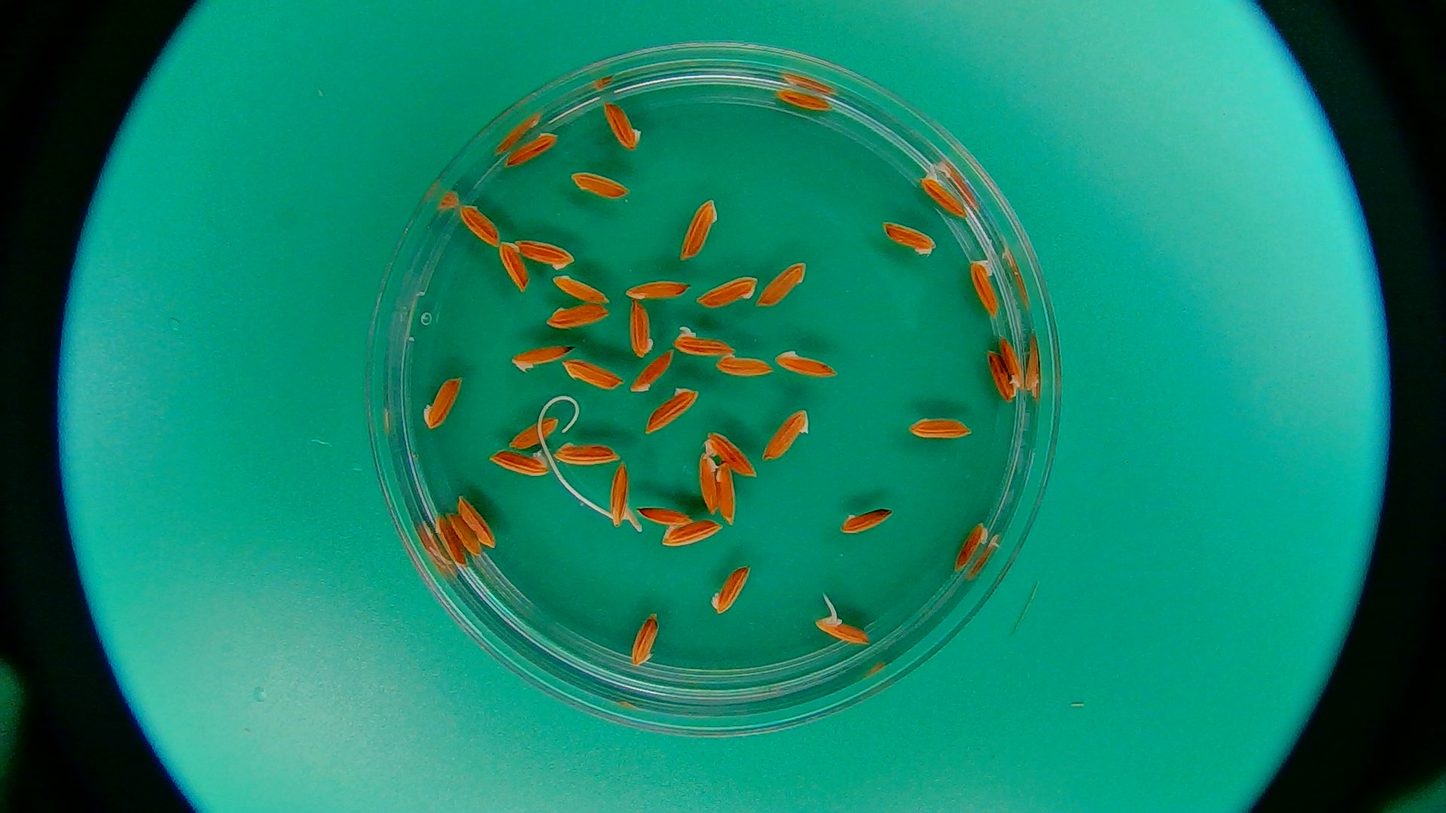no: (646, 388, 699, 437), (679, 199, 721, 260), (761, 408, 809, 459), (709, 562, 752, 617), (423, 373, 463, 432), (758, 261, 807, 309), (600, 96, 642, 150), (432, 514, 471, 571), (953, 518, 991, 574), (696, 275, 758, 309), (773, 346, 840, 377), (458, 495, 495, 547), (883, 220, 936, 256), (457, 202, 500, 245), (486, 449, 549, 478), (566, 358, 623, 390), (505, 132, 560, 165), (518, 239, 575, 270), (569, 169, 627, 199), (984, 348, 1016, 402), (552, 275, 609, 304), (545, 304, 611, 329), (511, 343, 566, 373), (909, 415, 972, 441), (622, 278, 691, 301), (498, 242, 529, 293), (715, 463, 740, 526), (837, 507, 895, 534), (447, 510, 480, 557), (554, 442, 621, 465), (630, 614, 659, 667), (628, 300, 654, 359), (631, 357, 672, 393), (508, 418, 557, 448), (776, 87, 834, 112), (716, 353, 770, 378), (1002, 336, 1027, 390), (663, 523, 722, 545), (698, 455, 718, 513), (637, 505, 691, 525)
yes: (702, 431, 759, 483), (919, 175, 967, 218), (969, 260, 1003, 315), (673, 327, 733, 356), (816, 615, 870, 647), (606, 465, 633, 525)
